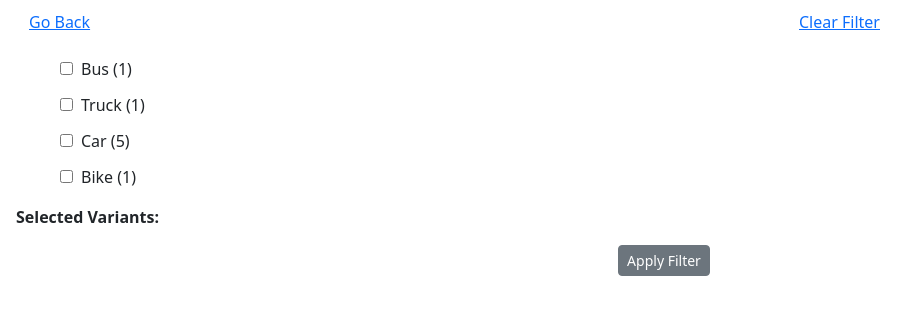
Test: selecting a checkbox shows the category selected
This screenshot has width=897, height=317.
Click the checkbox labelled "Truck (1)": (66, 104) [60,98,73,111]
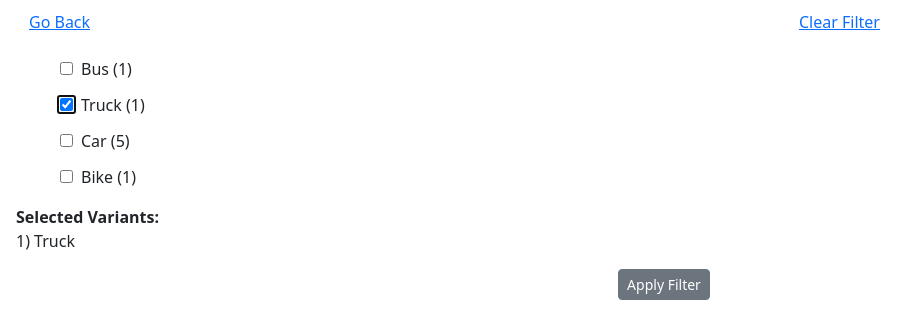
Expected: the text "1) Truck" is shown, [16,230,75,252]
